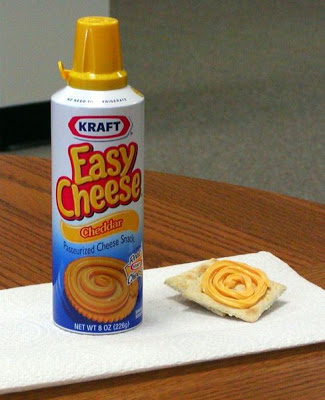cheese: (204, 261, 270, 309)
